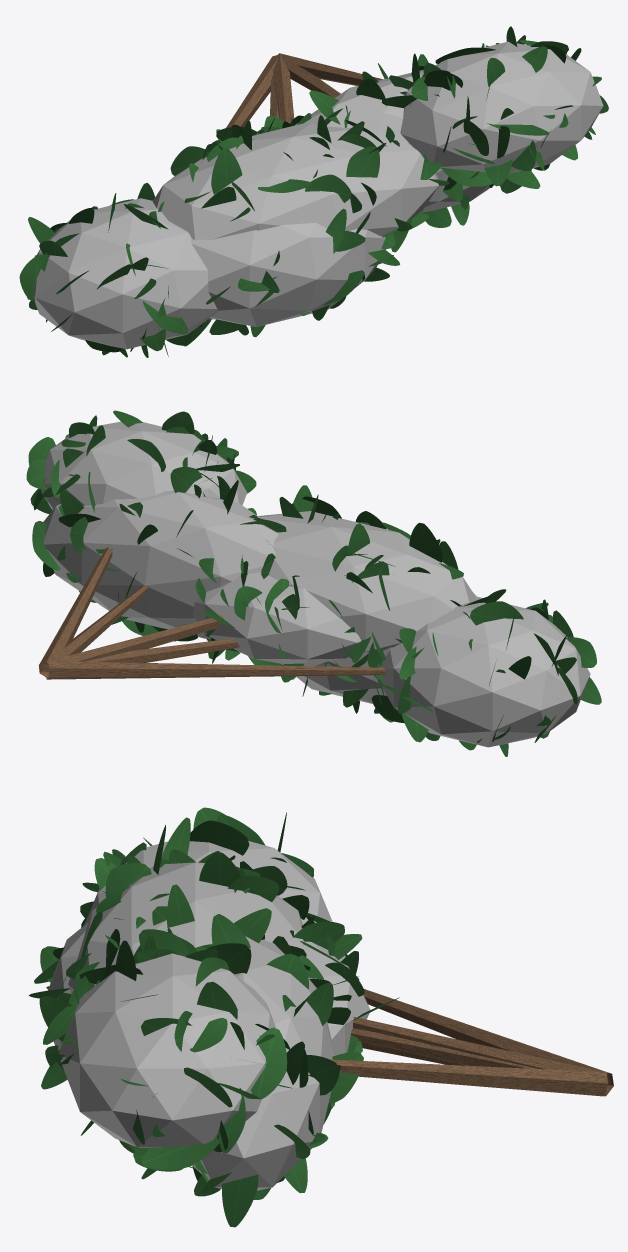
File: Bush_01.obj
3 views of the same model, one above another, from view 1: azimuth 30°, elevation 25°; view 2: azimuth 150°, elevation 25°; view 3: azimuth 270°, elevation 25° (orthographic). The views are drawn at different scales.
Parts seen in each view (by area): view 1: canopy, leaves, trunk; view 2: canopy, leaves, trunk; view 3: canopy, leaves, trunk.
Part boxes in pixels (box(x1,y1,x2,y2)): canopy: box(33, 41, 603, 349); leaves: box(19, 26, 608, 357); trunk: box(218, 53, 383, 140); canopy: box(41, 421, 590, 747); leaves: box(26, 410, 601, 756); trunk: box(38, 547, 385, 679); canopy: box(48, 841, 370, 1190); leaves: box(29, 807, 399, 1227); trunk: box(329, 989, 613, 1096).
Bounding box in the file's own units: 1.88 × 0.7902 × 1.24.
3 materials, 2 textured.
